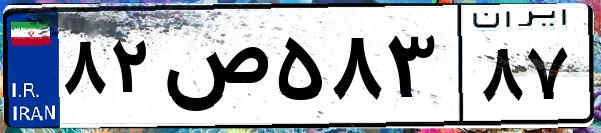2: (110, 28, 158, 98)
3: (385, 28, 445, 110)
5: (270, 28, 330, 110)
7: (525, 38, 570, 115)
8: (330, 28, 385, 110), (57, 26, 110, 100), (475, 38, 525, 113)
ص: (158, 20, 270, 120)
